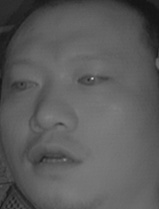eye: (75, 68, 108, 91), (9, 73, 41, 94)
mouth: (26, 138, 88, 176)
